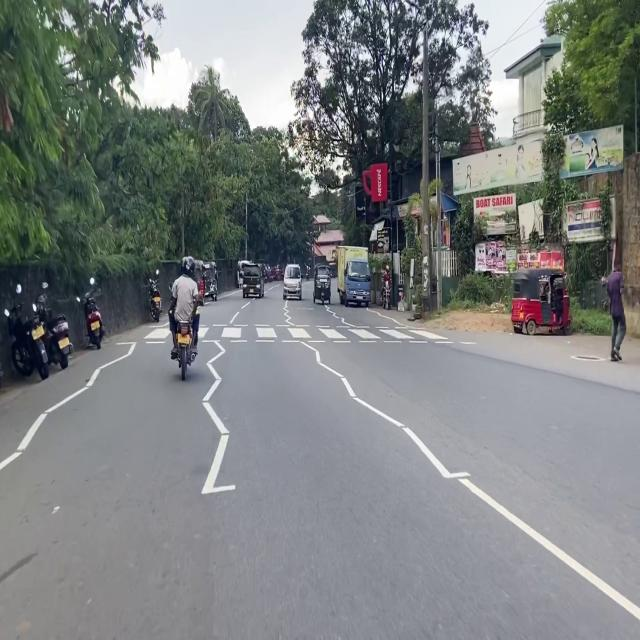car: (243, 265, 264, 297), (283, 264, 301, 300)
motorcycle: (6, 286, 49, 379), (37, 286, 72, 369), (77, 277, 105, 349), (176, 321, 197, 380), (149, 271, 161, 322), (382, 279, 391, 309)
person: (170, 257, 199, 358), (601, 258, 626, 361), (383, 264, 391, 286)
three wheeler: (511, 268, 572, 335), (195, 260, 217, 343), (313, 265, 330, 303)
truck: (338, 247, 370, 307)
